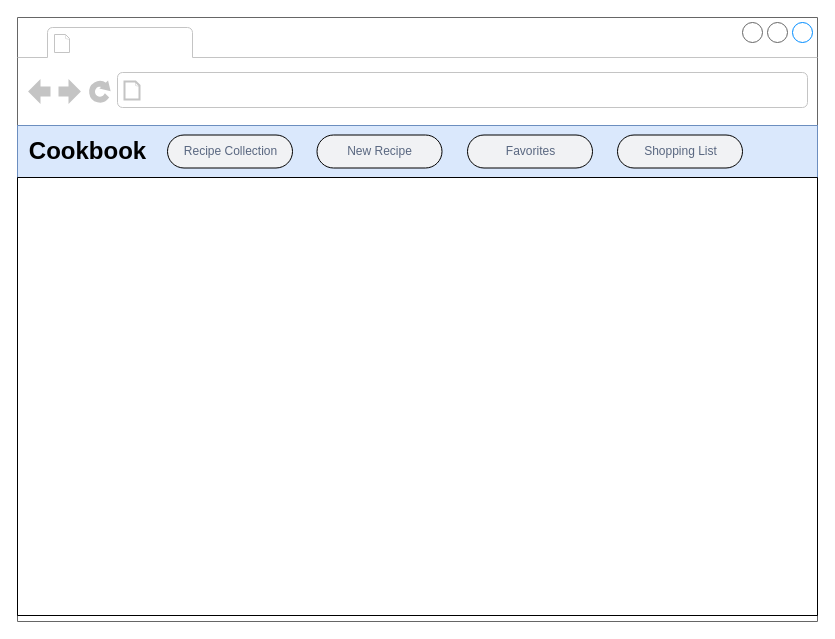
Some shapes in this 835 by 639 pixel diagram are drawn without their labels. Each missing label, with the box of its shape:
Kochbuch: (76, 28, 188, 56)
kochbuch.de: (146, 76, 398, 104)
